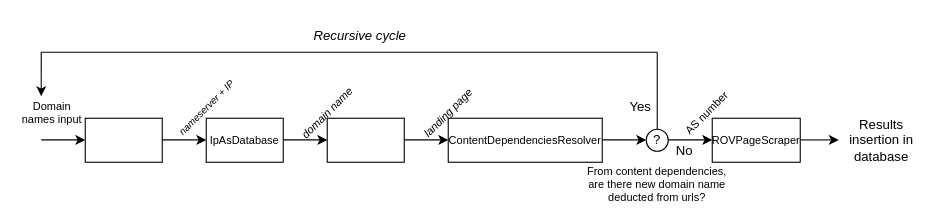
Some shapes in this 947 by 224 pixel diagram are drawn without their labels. The centre of each missing label's shape, as x and y in pixels:
"DnsResolver" goes at point (123, 139).
"finding: landing_page" goes at point (365, 139).
